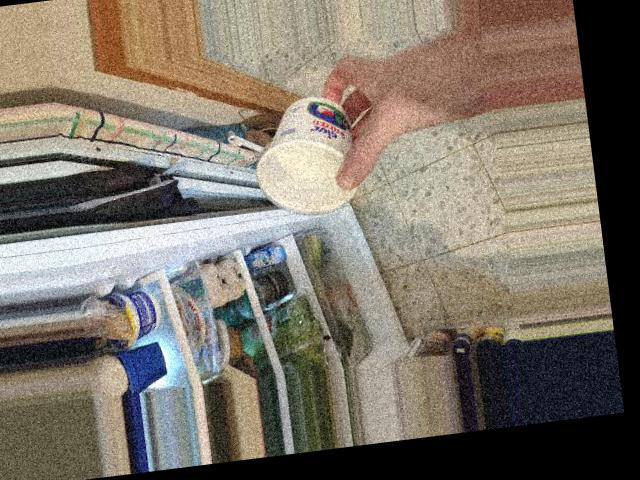cotage: (253, 95, 378, 223)
